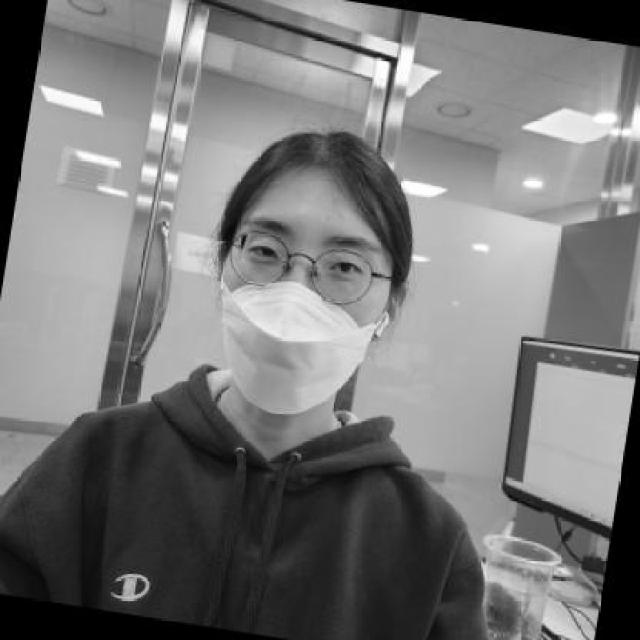earphone: (374, 295, 405, 354)
laptop_computer: (465, 270, 640, 584)
